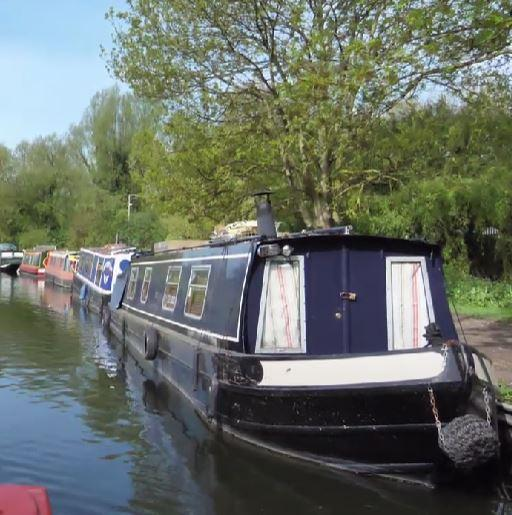Ship: (126, 246, 504, 485)
